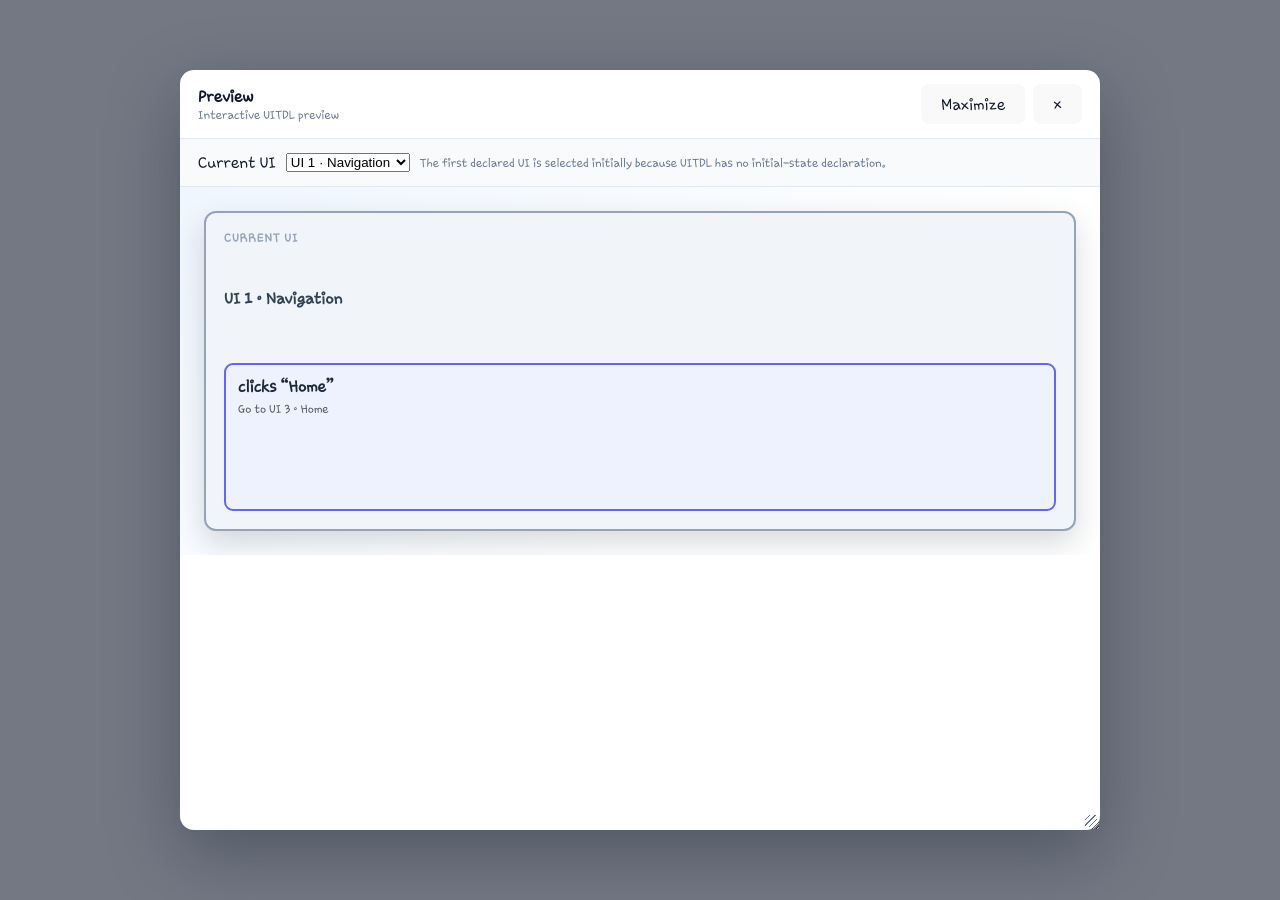
it: InteractivePreview › maximizes and restores the preview window
Click the button with aria-label "Maximize interactive preview".
click(973, 104)  # box [921, 84, 1025, 124]
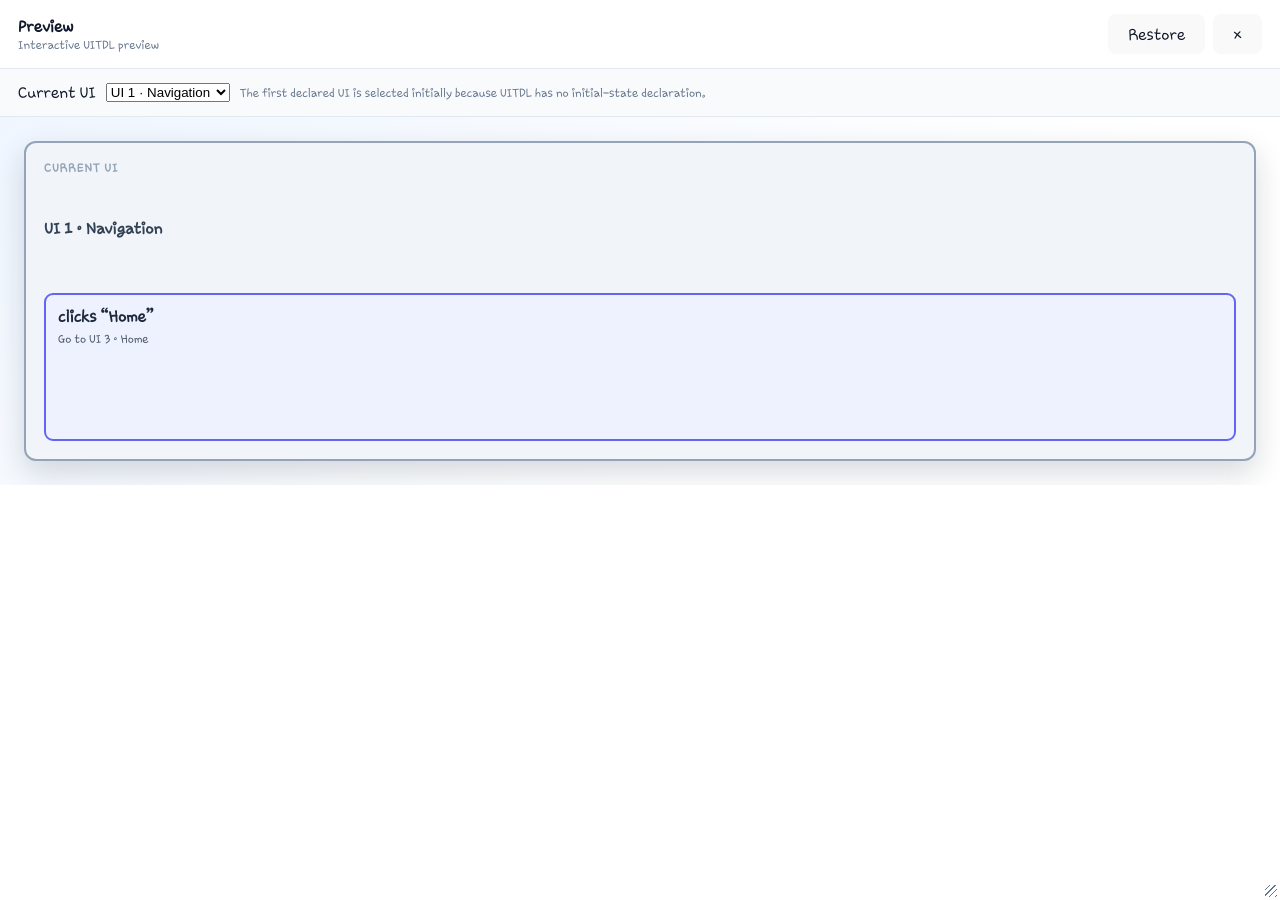
Check: the dialog "Interactive UITDL preview" has class "is-maximized"
Click the button with aria-label "Restore interactive preview".
click(1157, 34)  # box [1108, 14, 1205, 54]
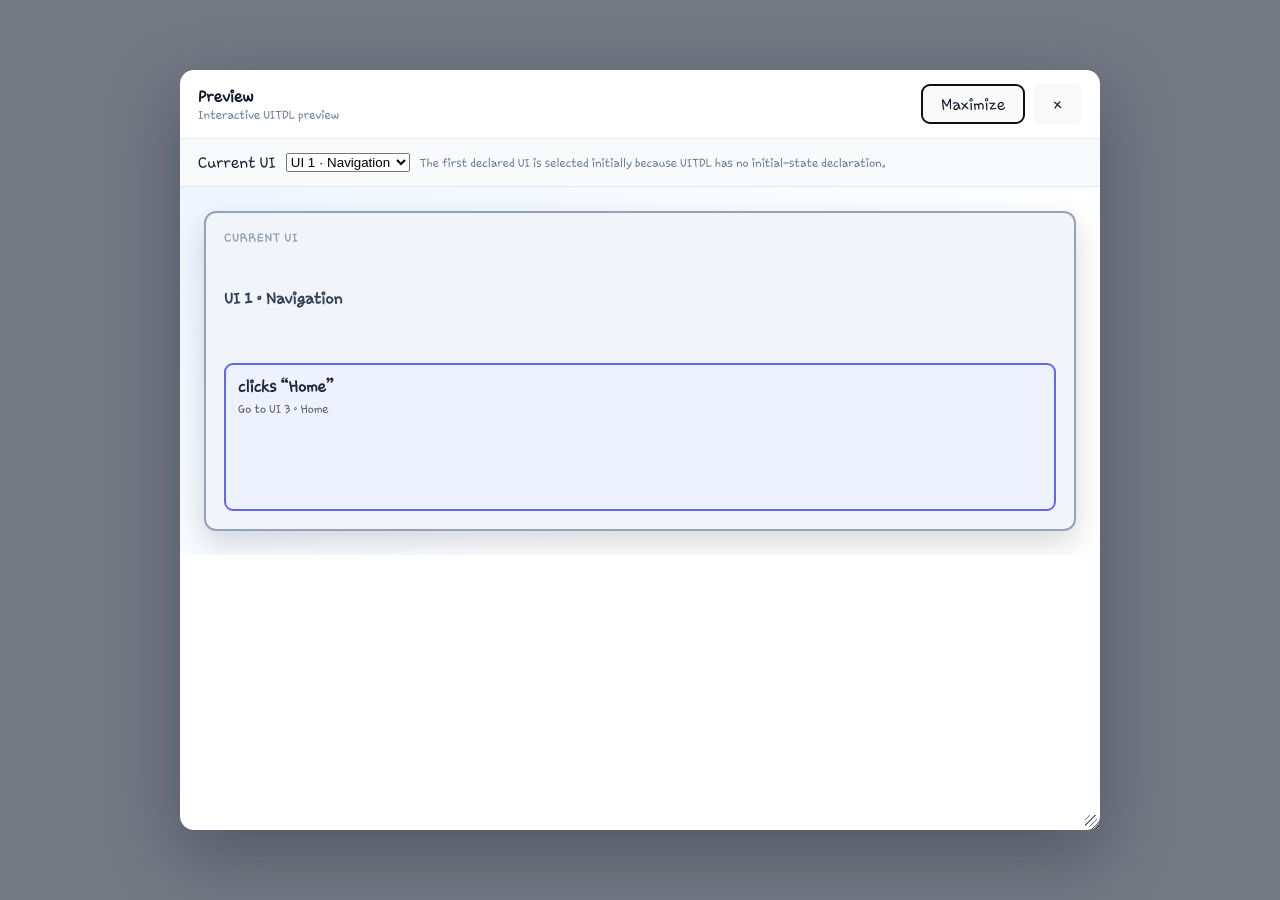
Check: the button with aria-label "Maximize interactive preview" is shown, box [921, 84, 1025, 124]
